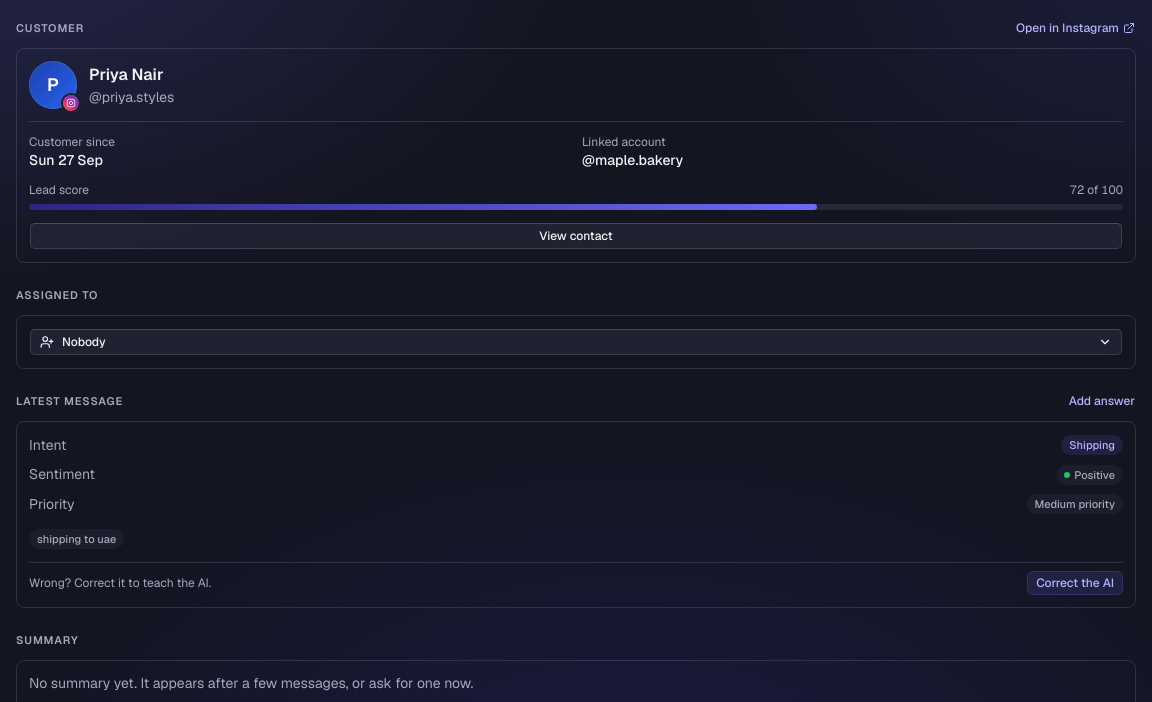
Analysis (FR-AI-02, FR-AI-04) › Correct changes the intent and sentiment; the chips follow
Check: the text "Shipping" is shown, box [1061, 435, 1123, 455]
Check: the text "shipping to uae" is shown, box [29, 529, 124, 549]
Click the button "Correct the AI". click: (1075, 583)
box: [1027, 571, 1123, 595]
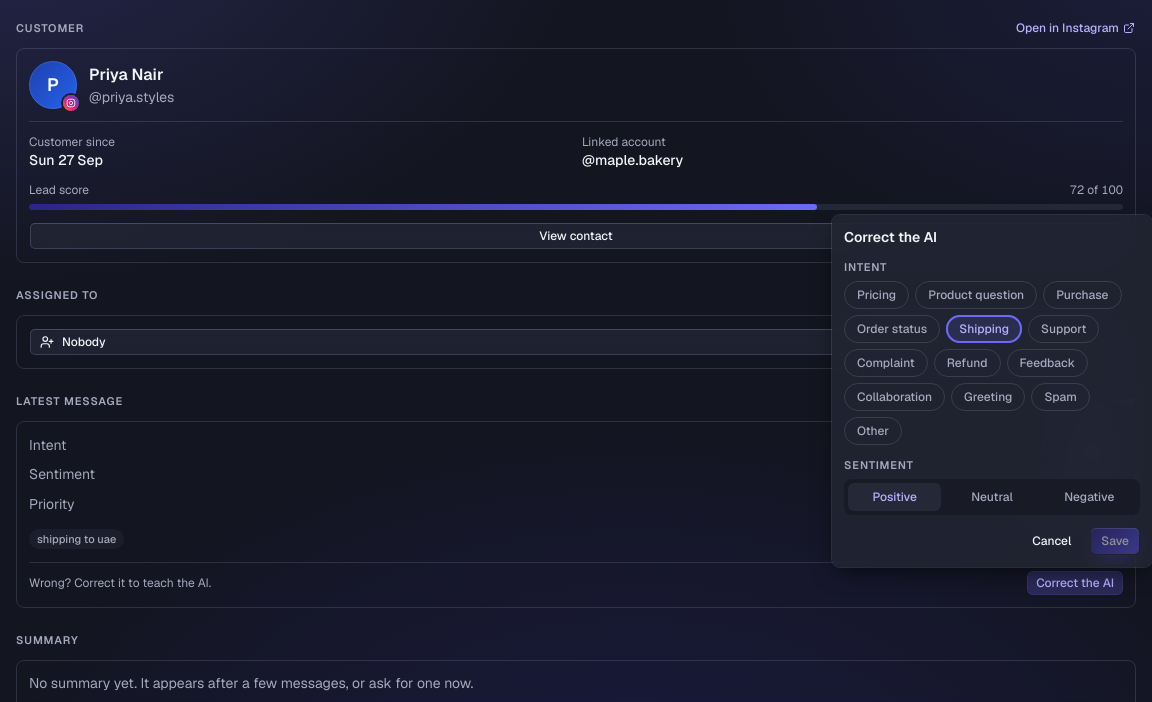
Check: the button "Save" is disabled, box [1090, 527, 1140, 555]
Click the radio button labelled "Pricing". click: (877, 295)
box: [844, 281, 909, 309]
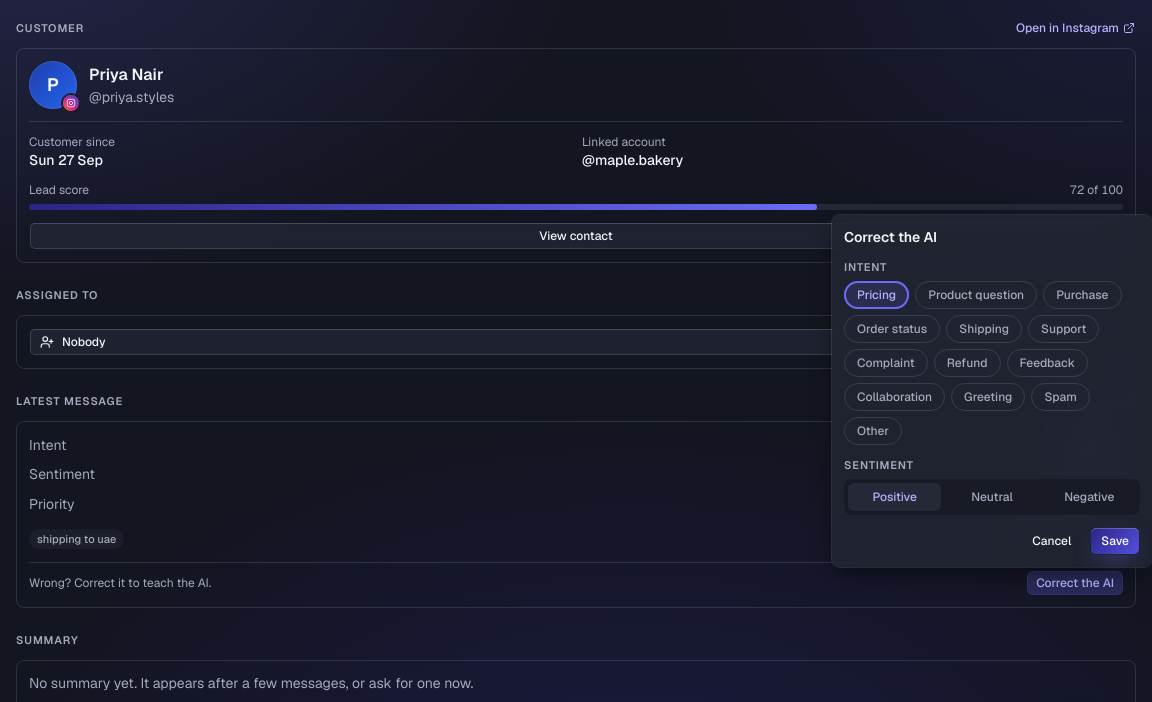
Click the radio button labelled "Negative". click: (1089, 497)
box: [1043, 483, 1136, 511]
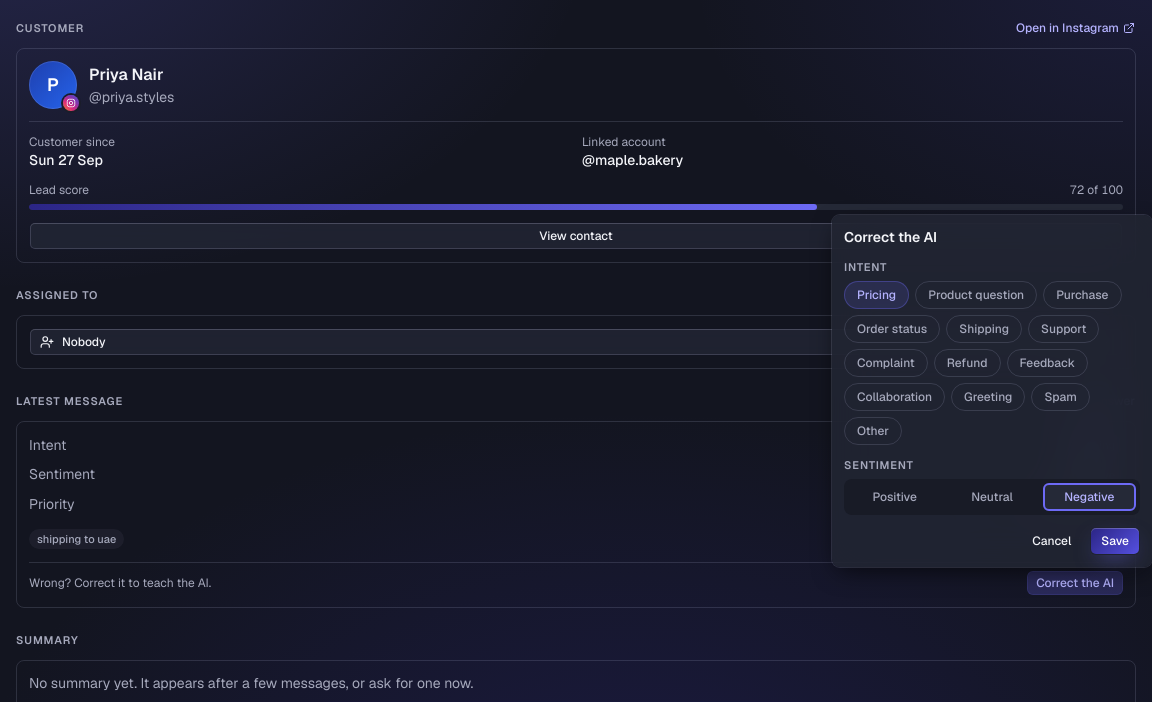
Click the button "Save". click: (1115, 541)
box: [1090, 527, 1140, 555]
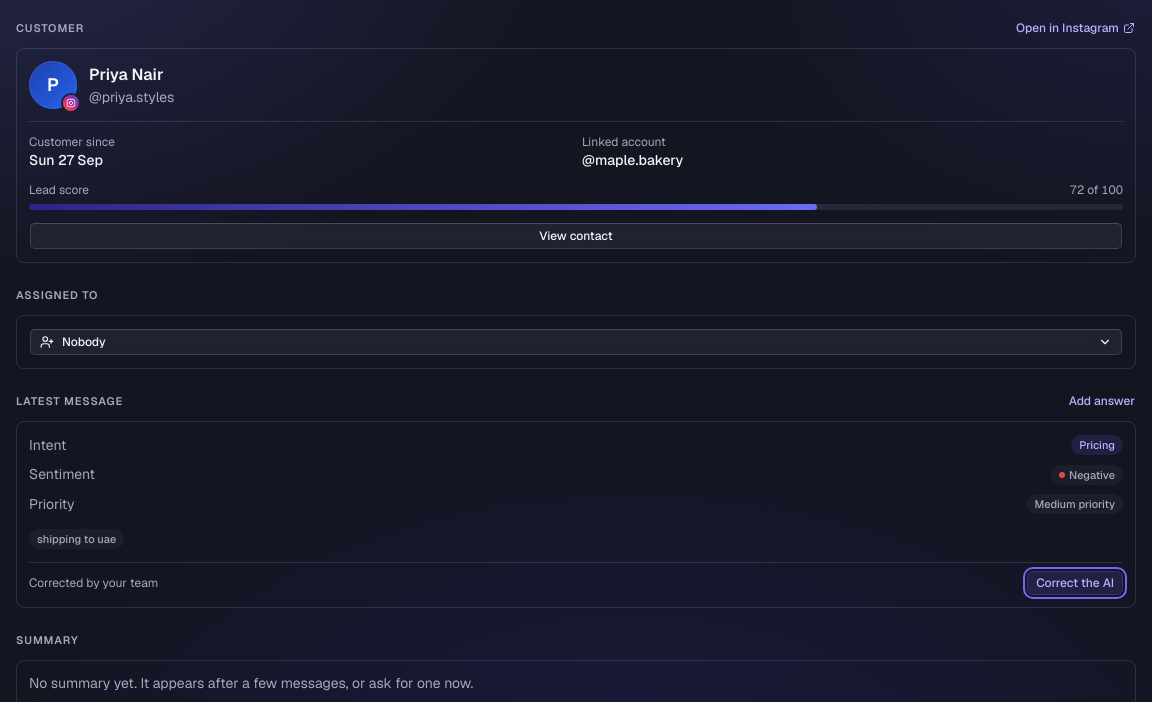
Check: the text "Pricing" is shown, box [1071, 435, 1123, 455]
Check: the text "Negative" is shown, box [1051, 465, 1123, 485]
Check: the text "Corrected by your team" is shown, box [29, 575, 158, 591]
